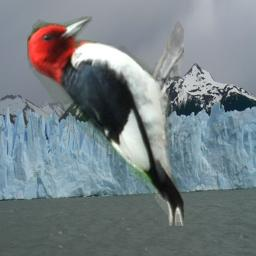Woodpecker: (27, 16, 184, 226)
